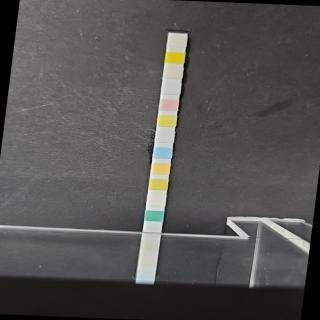mark: (152, 162, 170, 175), (154, 146, 172, 158), (156, 132, 174, 144), (160, 100, 178, 112), (162, 84, 180, 96), (150, 178, 167, 190), (167, 51, 184, 63), (164, 68, 182, 79), (146, 210, 162, 222), (148, 195, 164, 207), (169, 36, 185, 48), (158, 116, 175, 127)
